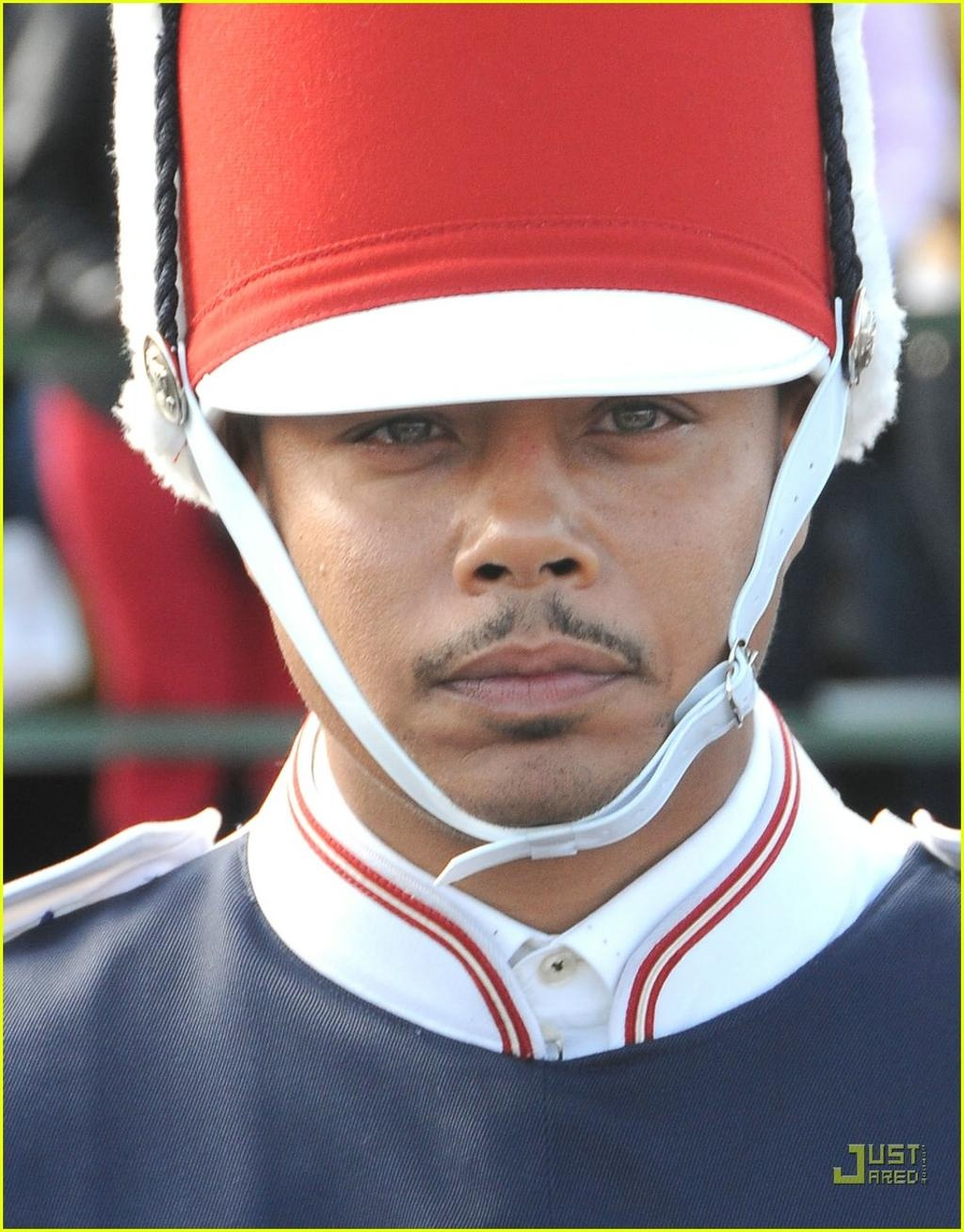human_face: (260, 250, 781, 824)
